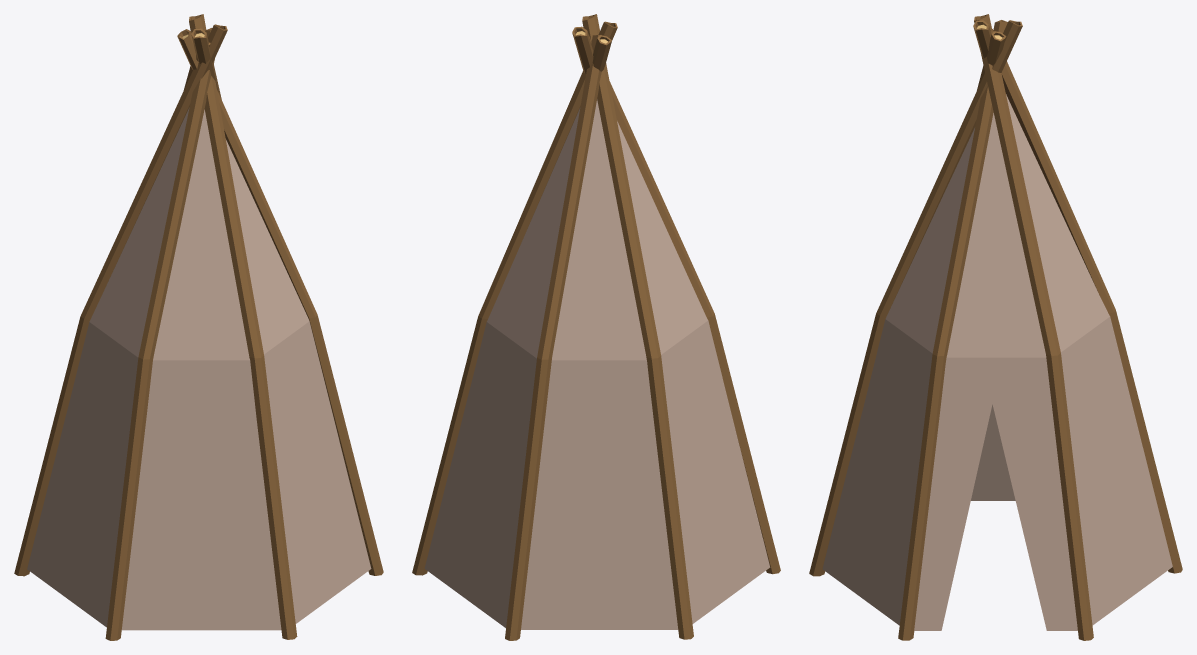
File: LV2 Tent.glb
3 views of the same model, side by side, from view 1: azimuth 30°, elevation 25°; view 2: azimuth 150°, elevation 25°; view 3: azimuth 270°, elevation 25° (orthographic).
Parts seen in each view (by area): view 1: Cylinder, Cylinder.003, Cylinder.004, Cylinder.005, Cylinder.002, Cylinder.001; view 2: Cylinder, Cylinder.005, Cylinder.006, Cylinder.001, Cylinder.004, Cylinder.003; view 3: Cylinder, Cylinder.001, Cylinder.002, Cylinder.003, Cylinder.006.
Boxes of the visible parts, left/top/right/bottom form: Cylinder: left=27, top=107, right=371, bottom=630; Cylinder.003: left=189, top=14, right=297, bottom=639; Cylinder.004: left=105, top=28, right=214, bottom=640; Cylinder.005: left=14, top=24, right=227, bottom=576; Cylinder.002: left=177, top=29, right=383, bottom=575; Cylinder.001: left=191, top=28, right=221, bottom=99; Cylinder: left=424, top=99, right=770, bottom=629; Cylinder.005: left=582, top=14, right=693, bottom=639; Cylinder.006: left=505, top=35, right=601, bottom=640; Cylinder.001: left=412, top=21, right=617, bottom=575; Cylinder.004: left=586, top=29, right=780, bottom=574; Cylinder.003: left=572, top=26, right=593, bottom=74; Cylinder: left=822, top=94, right=1172, bottom=630; Cylinder.001: left=974, top=14, right=1093, bottom=640; Cylinder.002: left=898, top=20, right=1007, bottom=640; Cylinder.003: left=809, top=20, right=1022, bottom=576; Cylinder.006: left=990, top=28, right=1182, bottom=573.
Size of the model in its own units: 1.09 by 2.05 by 1.25.
